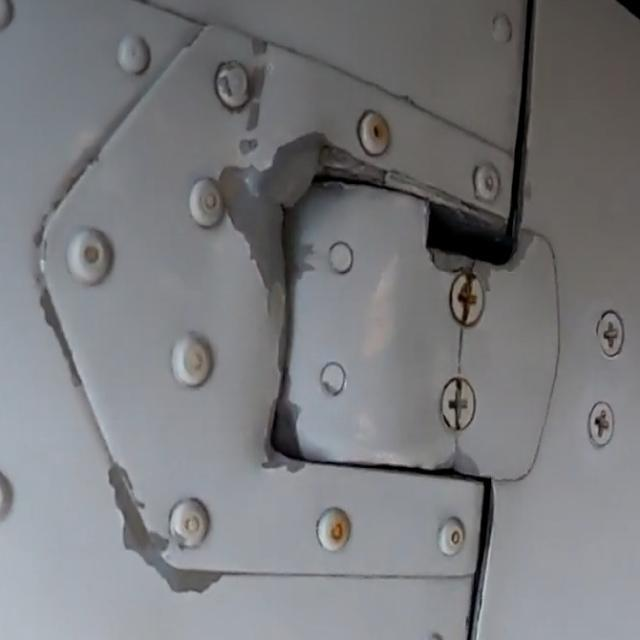crack: (442, 326, 474, 380)
